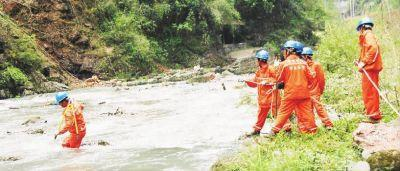helmet: (281, 38, 302, 58), (52, 89, 72, 109), (355, 17, 374, 36), (253, 46, 268, 68), (298, 44, 313, 66)
